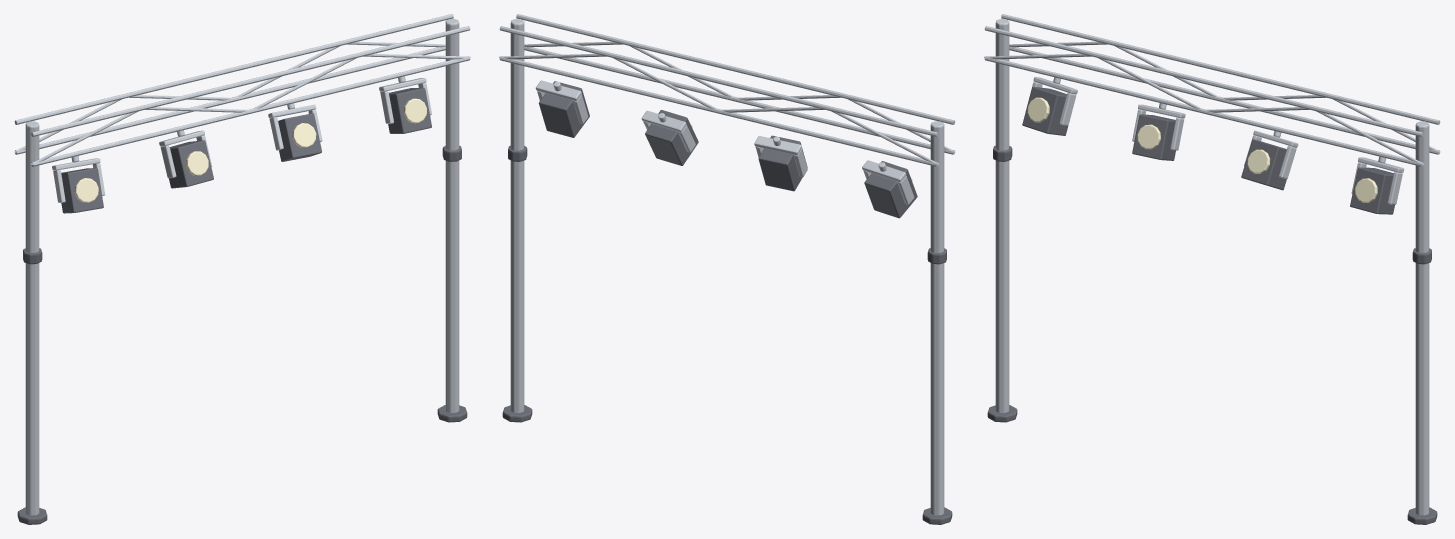
Rendered from StrobeRig.fbx.
3 views of the same model, side by side, from view 1: azimuth 30°, elevation 25°; view 2: azimuth 150°, elevation 25°; view 3: azimuth 330°, elevation 25° (orthographic).
Visible parts, largest first — view 1: StrobeRig_Truss, StrobeRig_PoleL, StrobeRig_PoleR, StrobeRig_Head3, StrobeRig_Head1, StrobeRig_Head2, StrobeRig_Head0; view 2: StrobeRig_Truss, StrobeRig_PoleL, StrobeRig_PoleR, StrobeRig_Head0, StrobeRig_Head3, StrobeRig_Head1, StrobeRig_Head2; view 3: StrobeRig_Truss, StrobeRig_PoleR, StrobeRig_PoleL, StrobeRig_Head3, StrobeRig_Head1, StrobeRig_Head0, StrobeRig_Head2.
Part boxes in pixels (x1,y1,x2,y2): StrobeRig_Truss: (14, 14, 470, 166); StrobeRig_PoleL: (17, 121, 47, 524); StrobeRig_PoleR: (437, 18, 467, 422); StrobeRig_Head3: (379, 76, 431, 133); StrobeRig_Head1: (159, 130, 213, 188); StrobeRig_Head2: (268, 103, 322, 161); StrobeRig_Head0: (52, 156, 105, 213); StrobeRig_Truss: (499, 14, 955, 166); StrobeRig_PoleL: (922, 121, 952, 524); StrobeRig_PoleR: (502, 18, 532, 422); StrobeRig_Head0: (862, 160, 917, 218); StrobeRig_Head3: (535, 80, 589, 137); StrobeRig_Head1: (754, 135, 807, 191); StrobeRig_Head2: (641, 110, 698, 165); StrobeRig_Truss: (984, 14, 1440, 166); StrobeRig_PoleR: (1407, 121, 1437, 524); StrobeRig_PoleL: (987, 18, 1017, 422); StrobeRig_Head3: (1350, 156, 1404, 214); StrobeRig_Head1: (1132, 103, 1185, 160); StrobeRig_Head0: (1022, 77, 1077, 135); StrobeRig_Head2: (1241, 130, 1298, 190).
Bounding box in the file's own units: 531 × 450 × 53.62.
